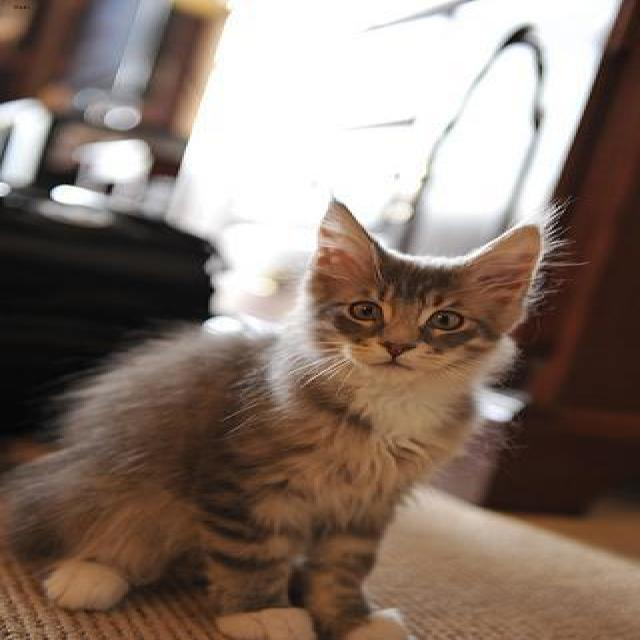cat: (0, 199, 548, 640)
